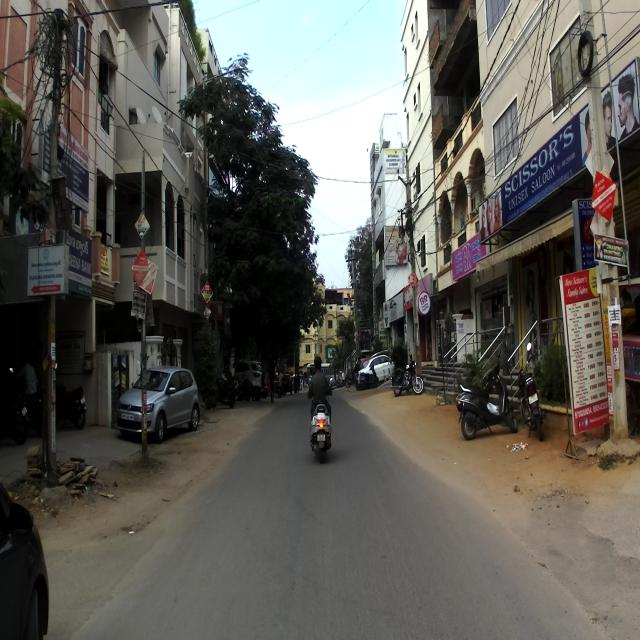car ahead at: (127, 362, 204, 440)
electric pole ahead at: (24, 12, 90, 474), (129, 143, 155, 462)
motorcycle ahead at: (452, 356, 520, 440), (305, 356, 336, 464), (516, 343, 548, 445)
